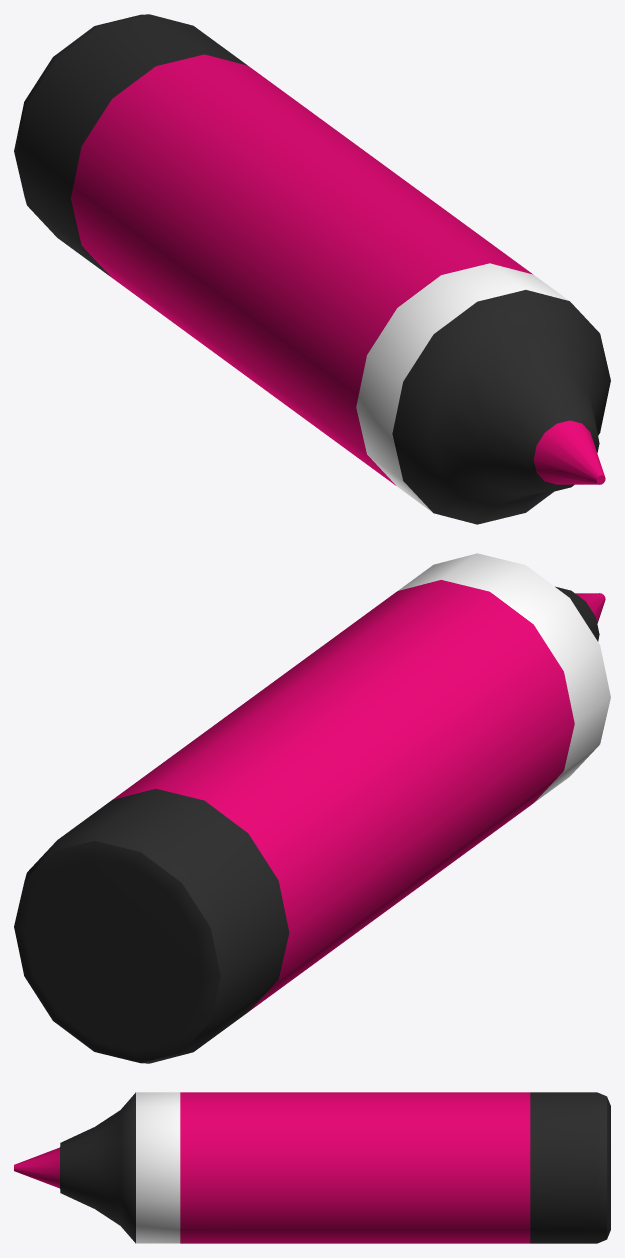
Rendered from Pen.fbx.
3 views of the same model, one above another, from view 1: azimuth 30°, elevation 25°; view 2: azimuth 150°, elevation 25°; view 3: azimuth 270°, elevation 25° (orthographic). The views are drawn at different scales.
Parts seen in each view (by area): view 1: Pen; view 2: Pen; view 3: Pen.
Boxes of the visible parts, x1,y1,x2,y2 form: Pen: [14, 14, 610, 524]; Pen: [14, 553, 610, 1063]; Pen: [14, 1092, 610, 1243].
Size of the model in its own units: 0.5466 by 0.5329 by 2.11.
